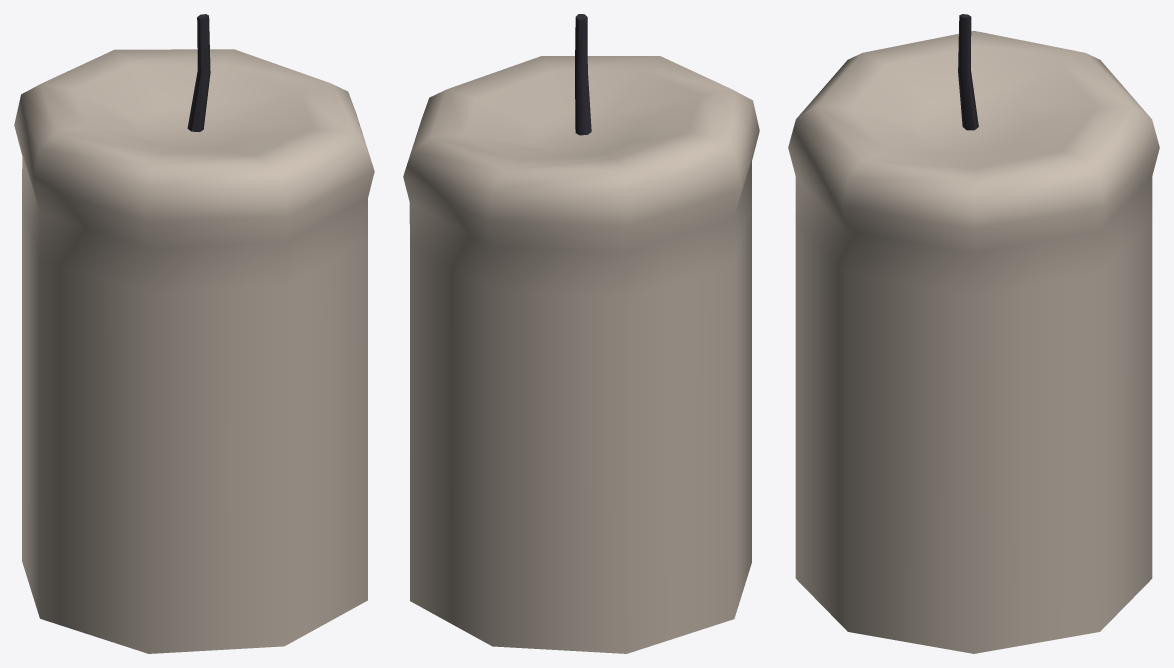
File: Candle_01_Small.fbx
The picture shows the model from 3 angles, left to right: view 1: azimuth 30°, elevation 25°; view 2: azimuth 150°, elevation 25°; view 3: azimuth 270°, elevation 25°; orthographic projection.
Visible parts, largest first — view 1: Candle_01_Small; view 2: Candle_01_Small; view 3: Candle_01_Small.
Part boxes in pixels (x1=…): Candle_01_Small: x1=14, y1=14, x2=374, y2=653; Candle_01_Small: x1=403, y1=14, x2=759, y2=653; Candle_01_Small: x1=788, y1=14, x2=1159, y2=653.
Bounding box in the file's own units: 0.041 × 0.0689 × 0.0411.
